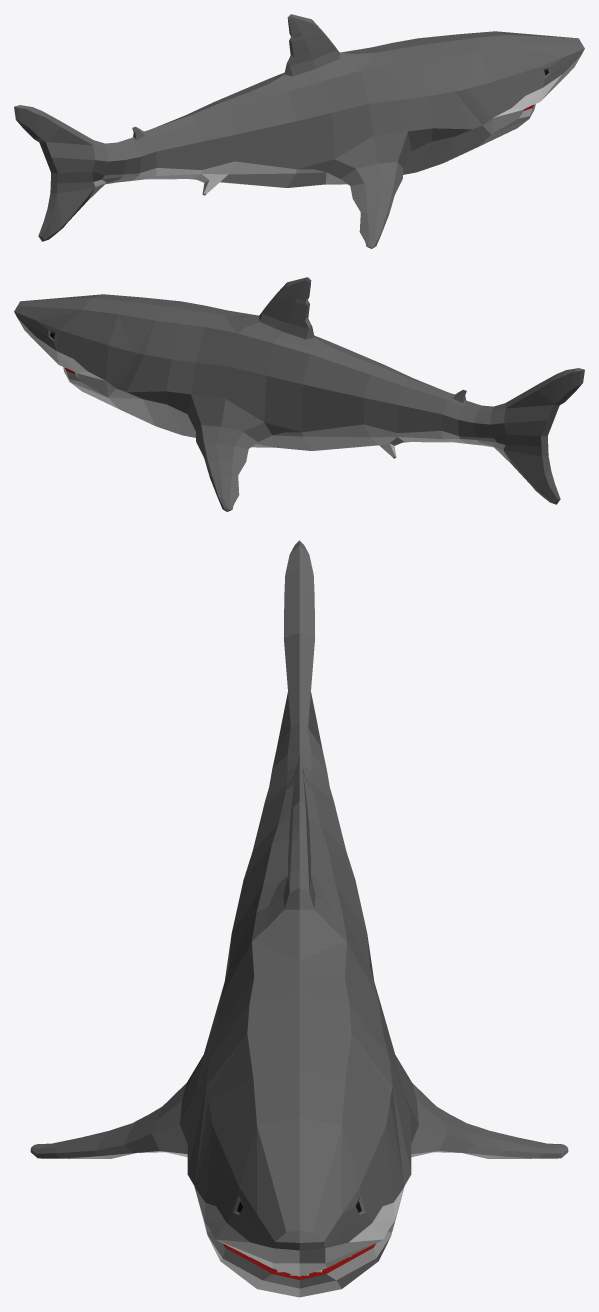
Rendered from shark.glb.
The picture shows the model from 3 angles, top to bottom: view 1: azimuth 30°, elevation 25°; view 2: azimuth 150°, elevation 25°; view 3: azimuth 270°, elevation 25°; orthographic projection. The views are drawn at different scales.
Visible parts, largest first — view 1: SharkV1-rigid; view 2: SharkV1-rigid; view 3: SharkV1-rigid.
Boxes of the visible parts, left/top/right/bottom form: SharkV1-rigid: left=14, top=14, right=584, bottom=248; SharkV1-rigid: left=14, top=277, right=584, bottom=511; SharkV1-rigid: left=30, top=540, right=568, bottom=1297.
Size of what is drawn, in the model's own units: 5.87 by 1.87 by 2.4.
Materials: 1 (1 with a texture image).
